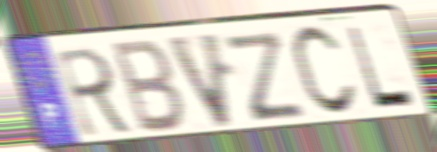B: (110, 37, 189, 136)
C: (288, 23, 361, 121)
L: (343, 23, 420, 110)
R: (52, 44, 137, 140)
V: (162, 29, 237, 133)
Z: (221, 29, 309, 125)
